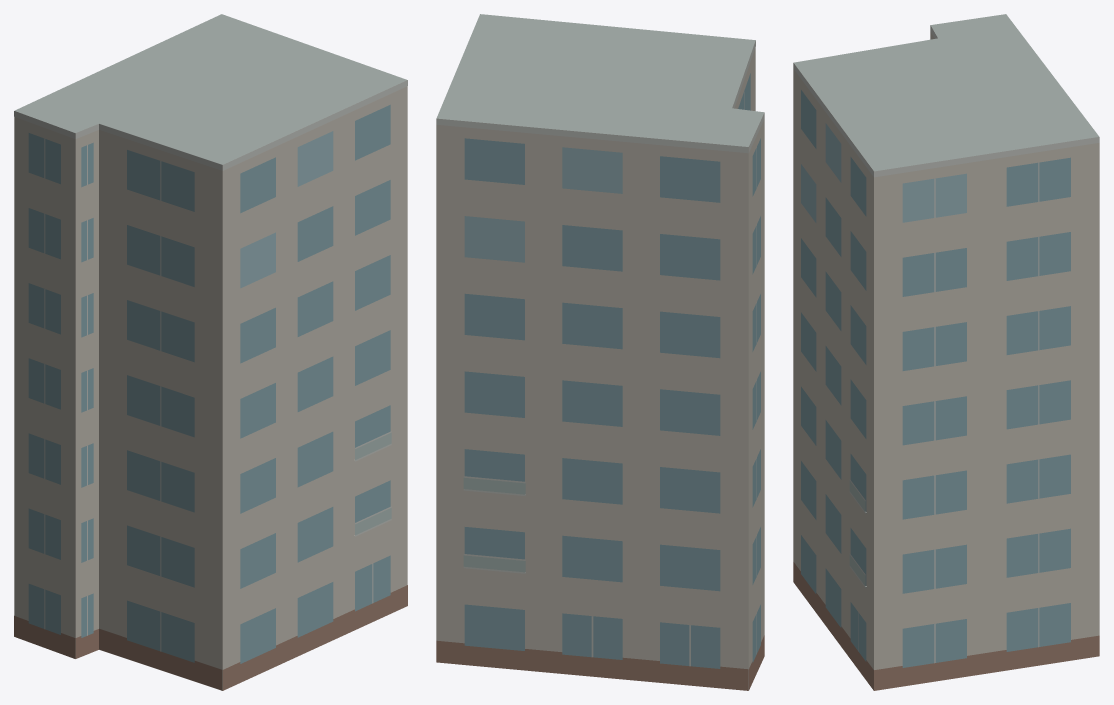
File: survey-upis-32962711.glb
The picture shows the model from 3 angles, left to right: view 1: azimuth 30°, elevation 25°; view 2: azimuth 150°, elevation 25°; view 3: azimuth 270°, elevation 25°; orthographic projection. The views are drawn at different scales.
Visible parts, largest first — view 1: survey-upis-32962711.tmp; view 2: survey-upis-32962711.tmp; view 3: survey-upis-32962711.tmp.
Part boxes in pixels (box(x1,y1,x2,y2)): survey-upis-32962711.tmp: box(14, 14, 407, 690); survey-upis-32962711.tmp: box(436, 14, 764, 690); survey-upis-32962711.tmp: box(793, 14, 1099, 690).
Size of the model in its own units: 13.86 by 21.3 by 11.38.
